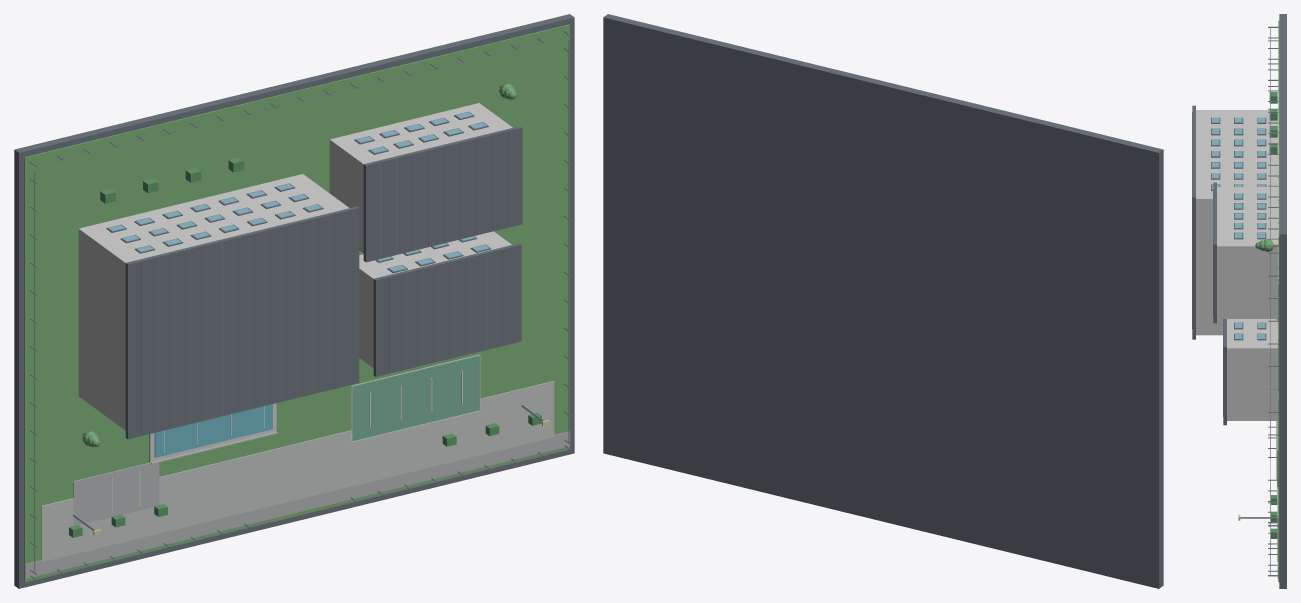
The model's file is medical_centre_level_4.glb.
3 renders of one model, left to right at view 1: azimuth 30°, elevation 25°; view 2: azimuth 150°, elevation 25°; view 3: azimuth 270°, elevation 25°, orthographic. The views are drawn at different scales.
Visible parts, largest first — view 1: land_1, dark_roof_5, forecourt_2, clinic_walls_4, base_slab_0, dark_roof_110, dark_roof_165, access_road_3, rehab_field_218, clinic_walls_109, parking_227, clinic_walls_164 (+4 smaller); view 2: base_slab_0; view 3: clinic_walls_4, clinic_walls_109, clinic_walls_164, base_slab_0, land_1, dark_roof_5, dark_roof_110, dark_roof_165, fence_rail_361, forecourt_2, rehab_field_218.
Part boxes in pixels (box(x1,y1,x2,y2)): land_1: box(24, 24, 569, 582); dark_roof_5: box(125, 206, 359, 439); forecourt_2: box(41, 381, 554, 561); clinic_walls_4: box(78, 174, 349, 430); base_slab_0: box(14, 14, 574, 588); dark_roof_110: box(363, 126, 522, 262); dark_roof_165: box(373, 243, 521, 376); access_road_3: box(25, 431, 570, 578); rehab_field_218: box(351, 354, 479, 441); clinic_walls_109: box(329, 103, 512, 253); parking_227: box(73, 462, 159, 525); clinic_walls_164: box(359, 231, 511, 367); base_slab_0: box(603, 14, 1163, 588); clinic_walls_4: box(1196, 110, 1277, 335); clinic_walls_109: box(1217, 187, 1277, 318); clinic_walls_164: box(1227, 319, 1277, 420); base_slab_0: box(1279, 14, 1286, 588); land_1: box(1278, 20, 1279, 582); dark_roof_5: box(1192, 105, 1195, 339); dark_roof_110: box(1213, 182, 1216, 323); dark_roof_165: box(1223, 319, 1226, 425); fence_rail_361: box(1270, 244, 1270, 570); forecourt_2: box(1277, 392, 1278, 561); rehab_field_218: box(1277, 400, 1278, 487).
Bounding box in the file's own units: 52 × 39 × 9.46.
